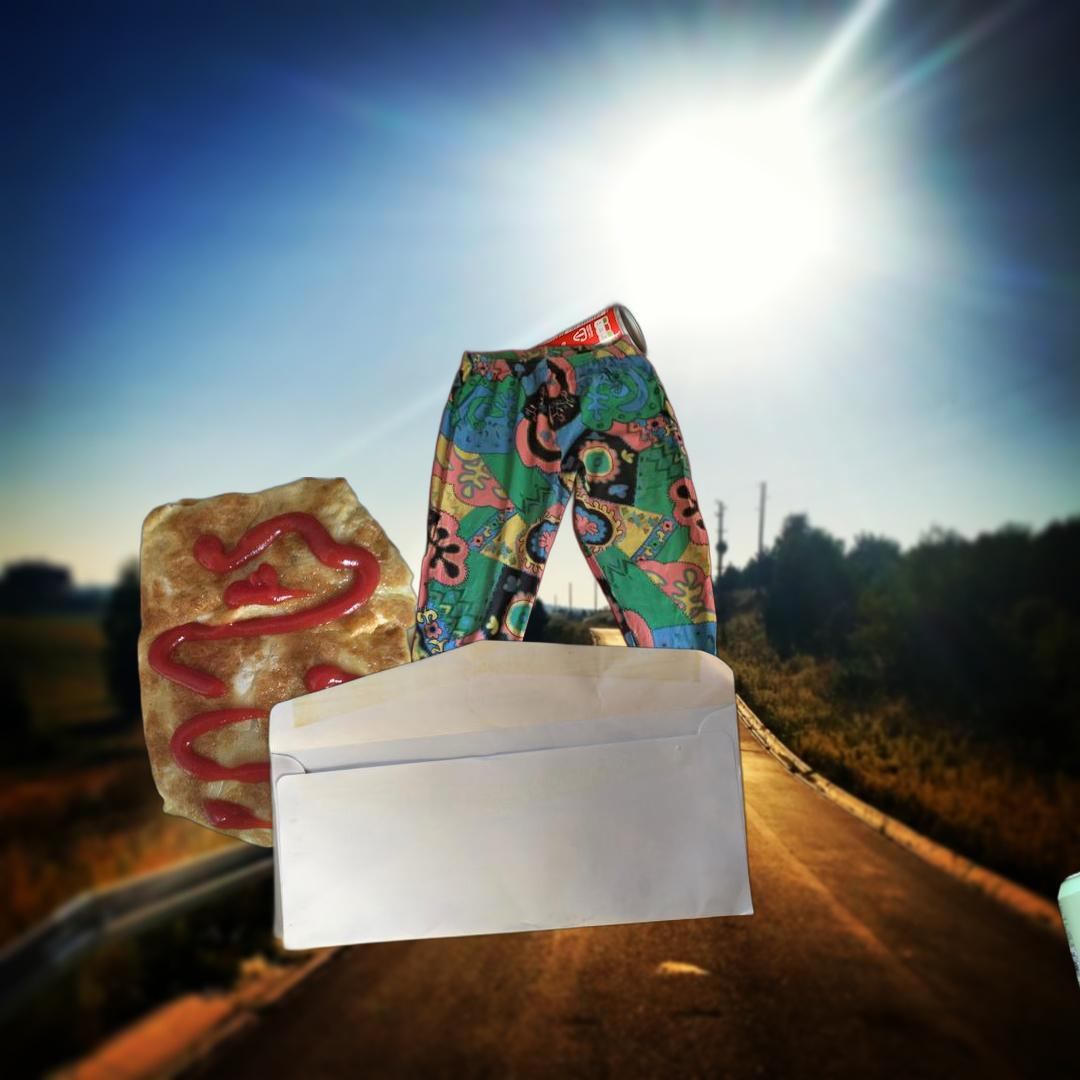biological: (132, 477, 466, 852)
clothes: (393, 330, 734, 819)
metal-cans: (479, 247, 959, 555), (1053, 860, 1080, 1003)
paper: (260, 637, 759, 956)
